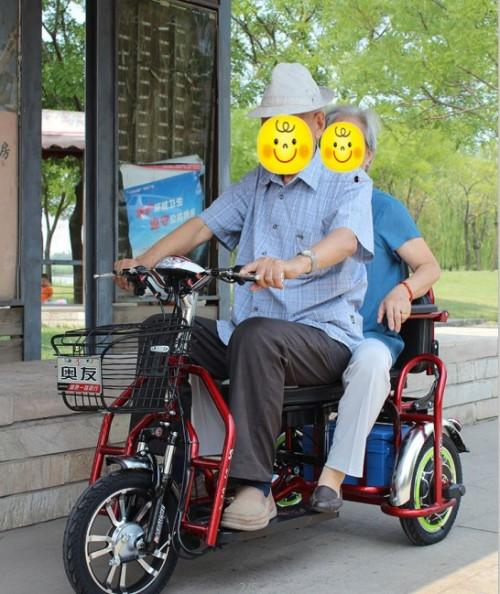driver: (82, 72, 332, 594)
overloading: (62, 62, 473, 593)
passenger: (326, 95, 445, 539)
